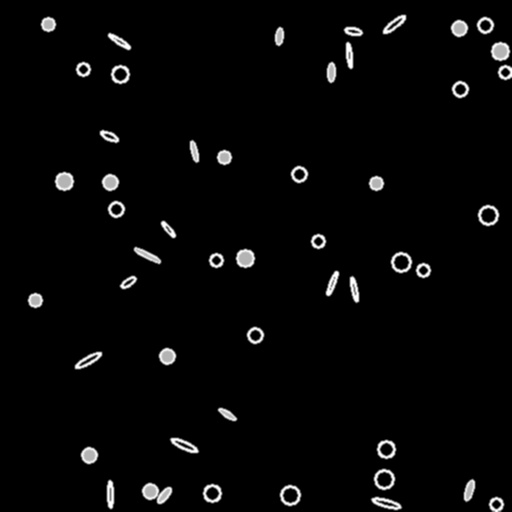pseudomonas: (74, 350, 102, 370), (382, 13, 406, 35), (170, 436, 198, 454), (133, 246, 161, 264), (108, 32, 130, 50), (372, 496, 400, 510), (325, 271, 339, 295), (155, 486, 173, 504), (160, 220, 176, 238), (99, 129, 119, 143), (349, 276, 359, 302), (218, 407, 236, 421), (119, 275, 137, 289), (463, 480, 475, 500), (345, 42, 353, 68), (189, 141, 199, 161), (344, 26, 362, 36), (107, 481, 113, 507), (327, 63, 335, 81), (275, 28, 283, 44)
synechocystis: (375, 470, 393, 488), (392, 253, 410, 271), (479, 206, 497, 224), (281, 486, 299, 504), (378, 441, 394, 457), (56, 173, 72, 189), (237, 250, 253, 266), (112, 66, 128, 82), (204, 485, 220, 501), (492, 43, 508, 59), (248, 328, 262, 342), (453, 82, 467, 96), (160, 349, 174, 363), (292, 167, 306, 181), (109, 202, 123, 216), (103, 175, 117, 189), (478, 18, 492, 32), (143, 484, 157, 498), (82, 448, 96, 462), (452, 21, 466, 35), (218, 151, 230, 163), (210, 254, 222, 266), (370, 177, 382, 189), (42, 18, 54, 30), (312, 235, 324, 247), (29, 294, 41, 306), (499, 66, 511, 78), (490, 498, 502, 510), (77, 63, 89, 75), (417, 264, 429, 276)
